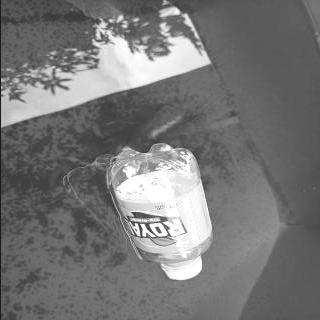bottle: (109, 142, 214, 282)
